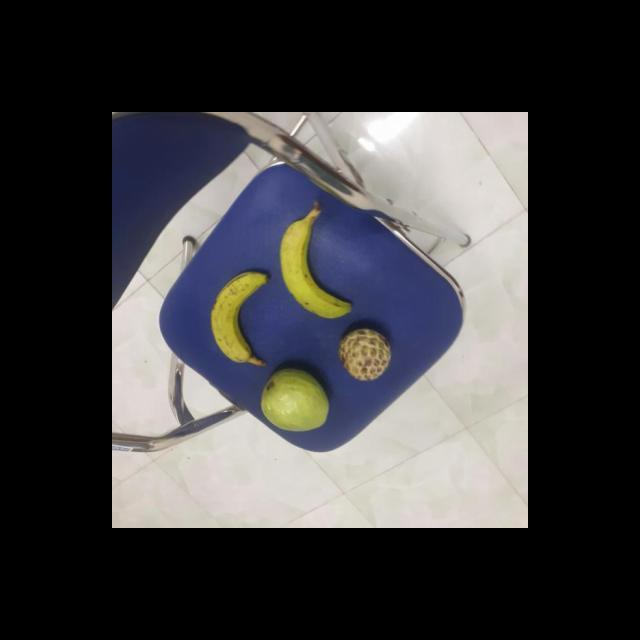Sakya fruit: (341, 328, 396, 382)
banana: (280, 220, 354, 320), (210, 274, 272, 367)
guava: (260, 367, 333, 431)
